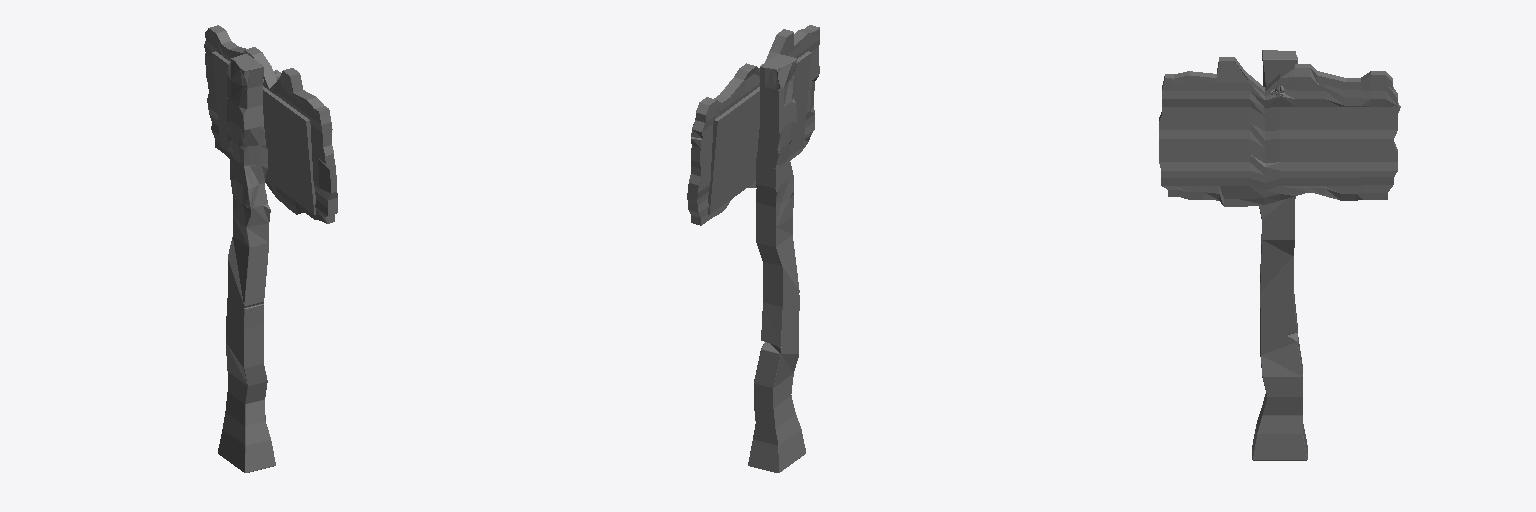
Rendered from cartel.obj.
3 renders of one model, left to right at view 1: azimuth 30°, elevation 25°; view 2: azimuth 150°, elevation 25°; view 3: azimuth 270°, elevation 25°, orthographic.
Parts seen in each view (by area): view 1: pCube2_meshId0_name, pCube3_meshId1_name, pCube4_meshId3_name; view 2: pCube2_meshId0_name, pCube3_meshId1_name, pCube4_meshId3_name; view 3: pCube3_meshId1_name, pCube2_meshId0_name.
Boxes of the visible parts, x1=… form: pCube2_meshId0_name: x1=218, y1=54, x2=275, y2=472; pCube3_meshId1_name: x1=204, y1=25, x2=337, y2=223; pCube4_meshId3_name: x1=212, y1=51, x2=315, y2=214; pCube2_meshId0_name: x1=748, y1=54, x2=805, y2=472; pCube3_meshId1_name: x1=687, y1=25, x2=819, y2=225; pCube4_meshId3_name: x1=708, y1=51, x2=811, y2=214; pCube3_meshId1_name: x1=1159, y1=57, x2=1400, y2=206; pCube2_meshId0_name: x1=1252, y1=50, x2=1307, y2=460.
Size of the model in its own units: 0.516 by 4 by 2.18.